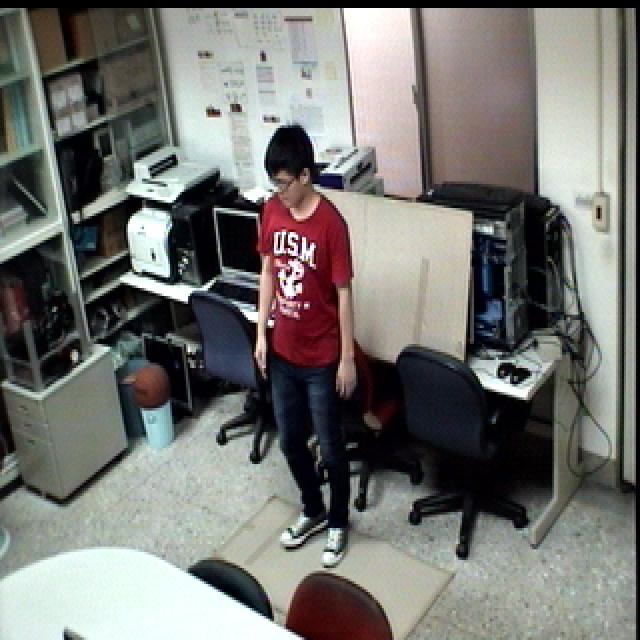stand: (245, 108, 366, 571)
